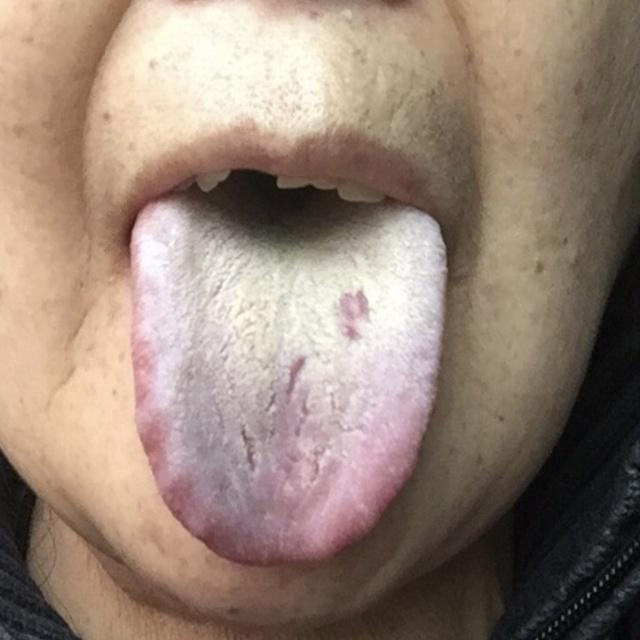baitaishe: (127, 184, 448, 573)
chihenshe: (131, 327, 200, 542)
liewenshe: (281, 347, 327, 477), (230, 418, 265, 479)
pangdashe: (127, 184, 448, 573)
